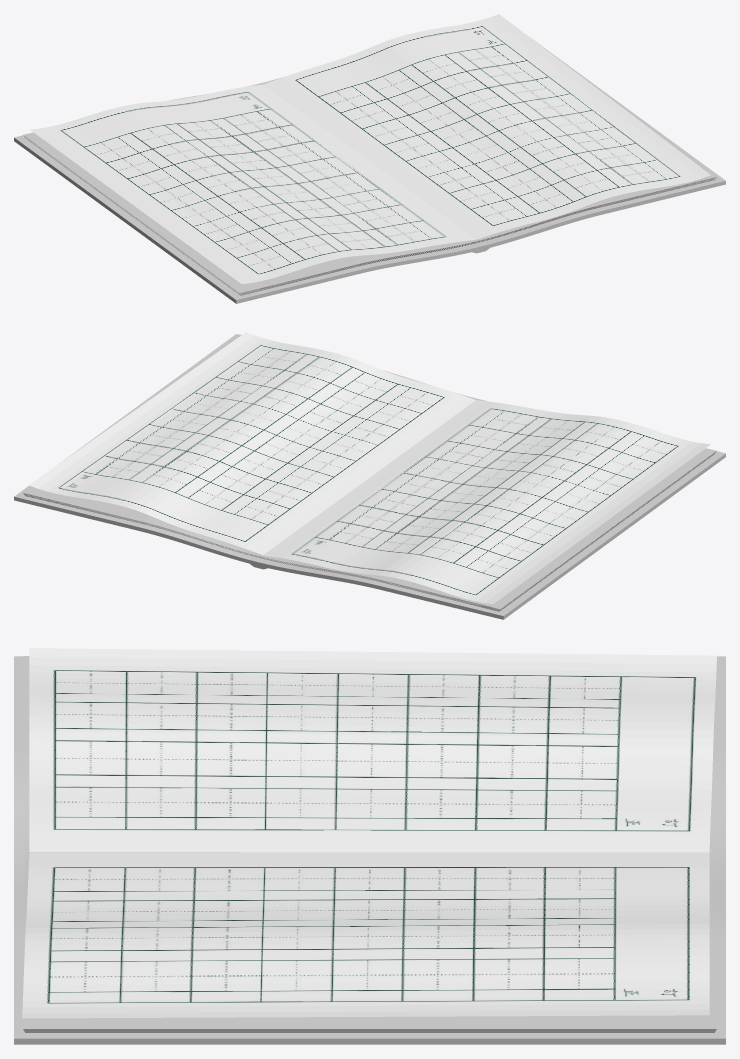
Rendered from word_book.fbx.
3 views of the same model, one above another, from view 1: azimuth 30°, elevation 25°; view 2: azimuth 150°, elevation 25°; view 3: azimuth 270°, elevation 25° (orthographic). The views are drawn at different scales.
Visible parts, largest first — view 1: Plane, Plane.001, book, book_inside; view 2: Plane, Plane.001, book, book_inside; view 3: Plane.001, Plane, book, book_inside.
Boxes of the visible parts, box(x1,y1,x2,y2) form: Plane: box(265, 14, 710, 239); Plane.001: box(30, 84, 475, 283); book: box(14, 38, 725, 303); book_inside: box(23, 80, 716, 295); Plane: box(29, 332, 475, 554); Plane.001: box(263, 400, 710, 604); book: box(14, 334, 725, 619); book_inside: box(23, 334, 716, 611); Plane.001: box(29, 648, 716, 852); Plane: box(22, 852, 709, 1018); book: box(14, 656, 725, 1044); book_inside: box(23, 656, 716, 1032).
Size of the model in its own units: 62.79 by 2.92 by 49.39.
